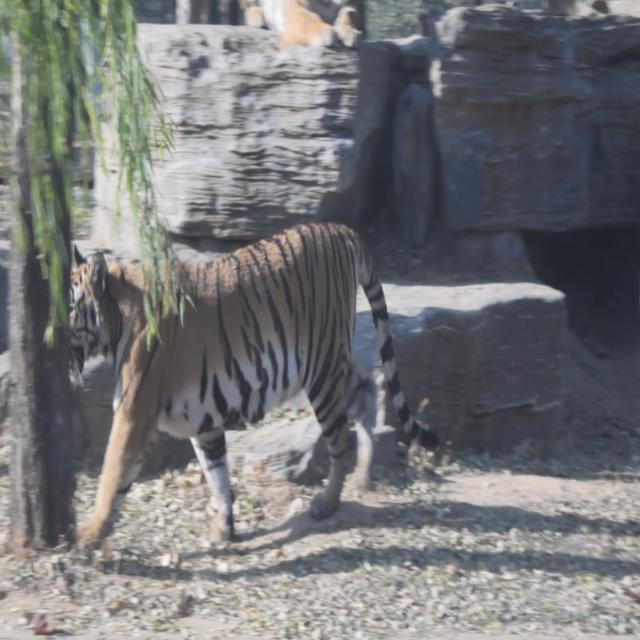Tiger: (61, 190, 433, 570)
